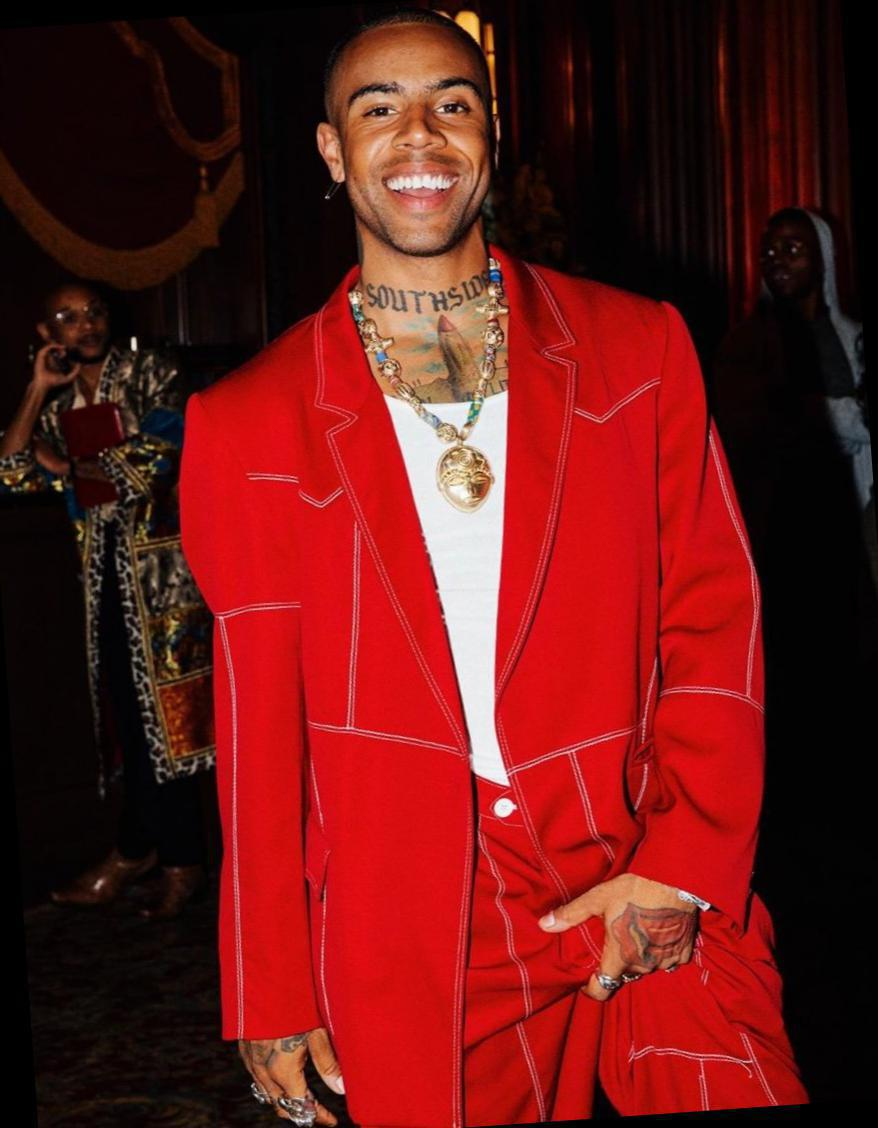Sober: (341, 28, 483, 249)
